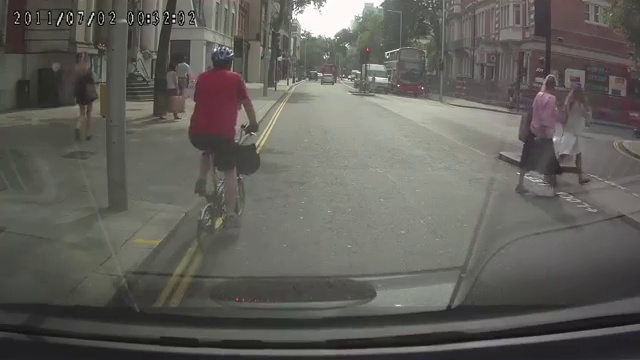cyclist_back: (188, 43, 261, 252)
